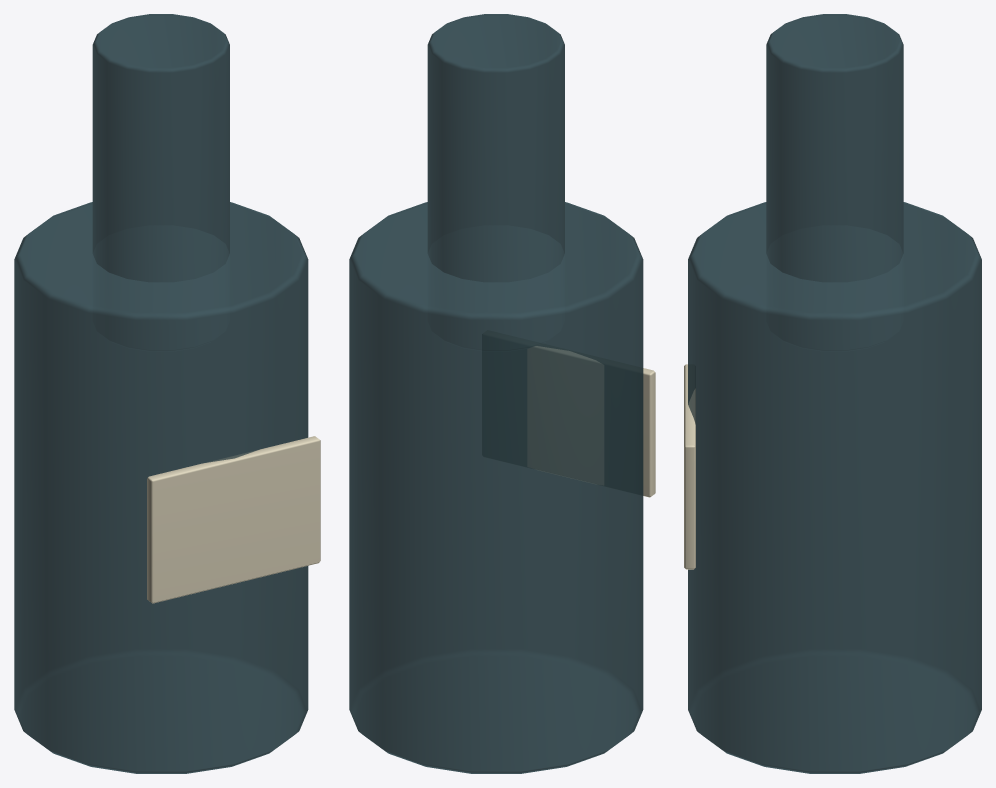
File: prop_old_bottle_01.glb
3 renders of one model, left to right at view 1: azimuth 30°, elevation 25°; view 2: azimuth 150°, elevation 25°; view 3: azimuth 270°, elevation 25°, orthographic.
Parts seen in each view (by area): view 1: bottle_body_dark.002, bottle_body_dark.003, bottle_neck.002, bottle_neck.003, bottle_old_label.002; view 2: bottle_body_dark.002, bottle_body_dark.003, bottle_neck.002, bottle_neck.003, bottle_old_label.002; view 3: bottle_body_dark.002, bottle_body_dark.003, bottle_neck.002, bottle_neck.003, bottle_old_label.002.
Boxes of the visible parts, x1,y1,x2,y2 form: bottle_body_dark.002: [14, 202, 308, 773]; bottle_body_dark.003: [14, 202, 307, 773]; bottle_neck.002: [92, 14, 229, 282]; bottle_neck.003: [93, 14, 229, 281]; bottle_old_label.002: [147, 436, 320, 603]; bottle_body_dark.002: [349, 202, 643, 773]; bottle_body_dark.003: [349, 202, 642, 773]; bottle_neck.002: [427, 14, 564, 282]; bottle_neck.003: [428, 14, 564, 281]; bottle_old_label.002: [527, 346, 655, 497]; bottle_body_dark.002: [688, 202, 981, 773]; bottle_body_dark.003: [688, 202, 981, 773]; bottle_neck.002: [766, 14, 903, 282]; bottle_neck.003: [766, 14, 903, 281]; bottle_old_label.002: [684, 364, 695, 569].
Bounding box in the file's own units: 0.1477 × 0.38 × 0.152.
